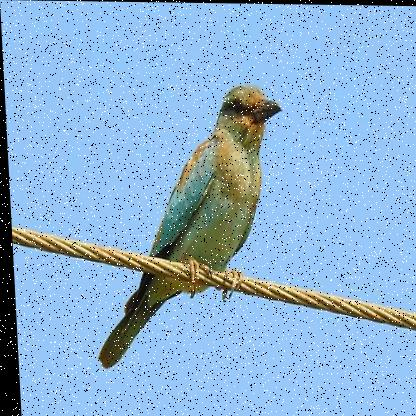Burung: (82, 78, 293, 373)
